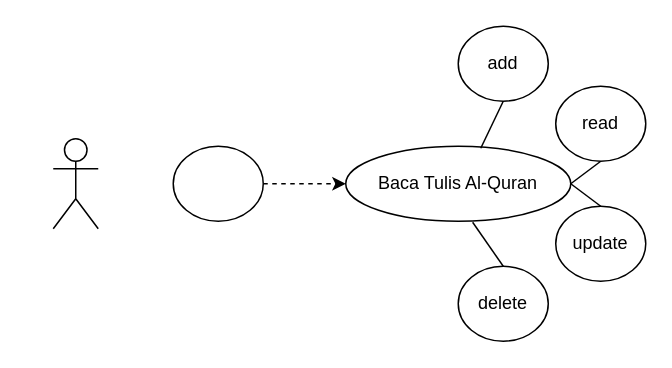
The diagram is 672 pixels wide and 368 high, and some of its shapes have lost their labels. The centre of each missing label's shape, as x and y in pixels:
"Login" goes at point (217, 183).
"tutor sebaya" goes at point (75, 183).
